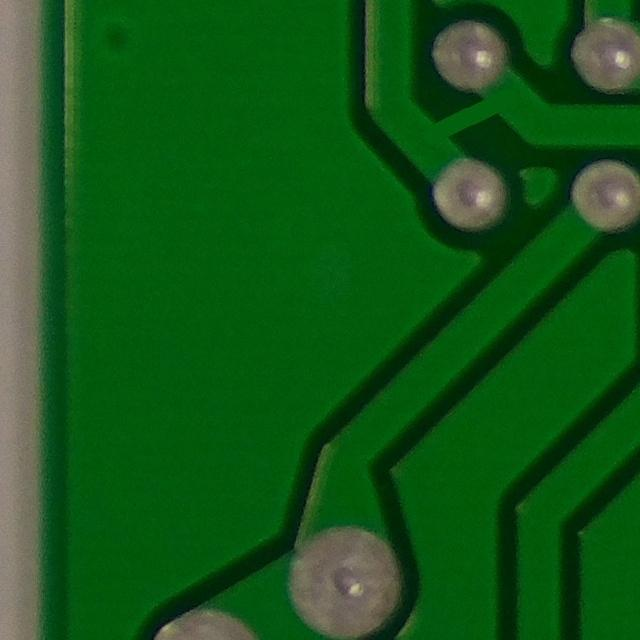short: (387, 68, 530, 165)
